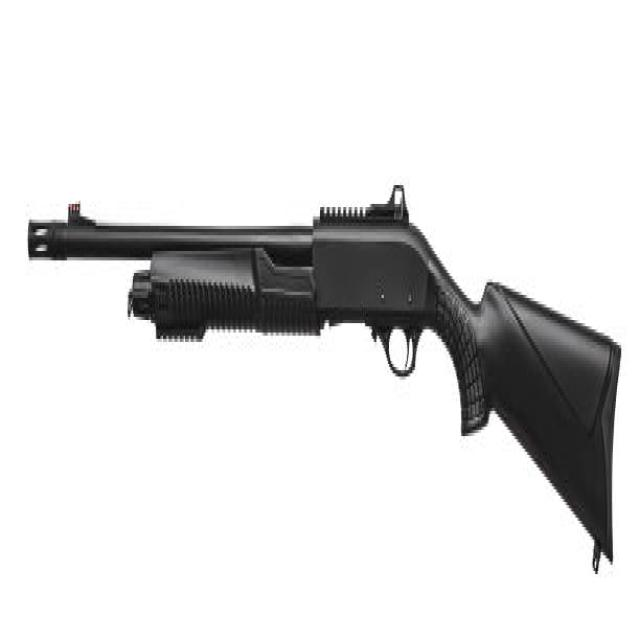rifle: (19, 185, 625, 600)
